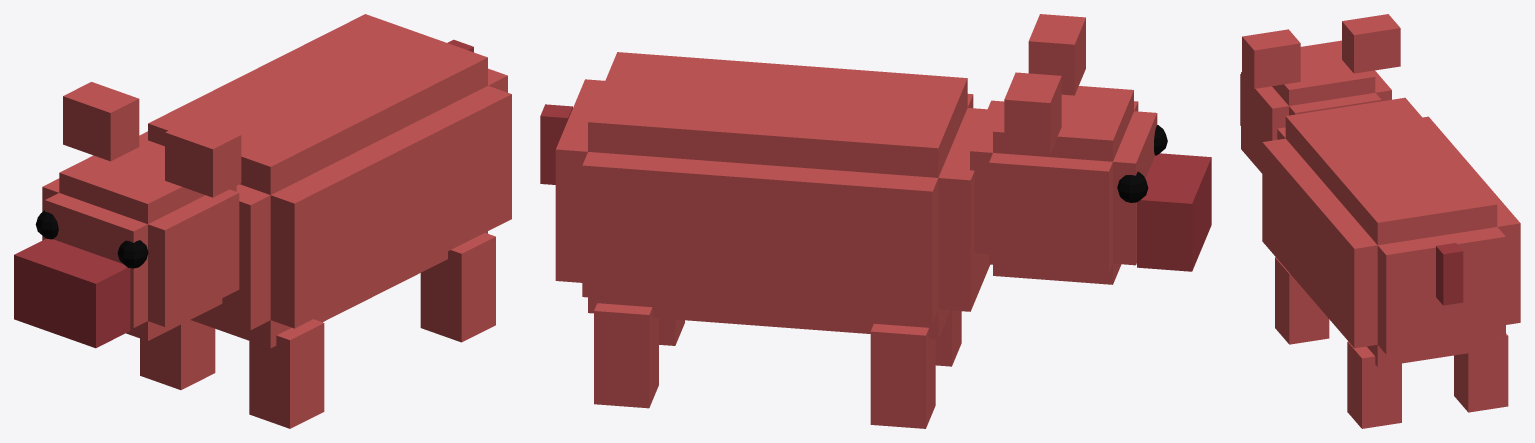
Rendered from cerdo.obj.
3 renders of one model, left to right at view 1: azimuth 30°, elevation 25°; view 2: azimuth 150°, elevation 25°; view 3: azimuth 270°, elevation 25°, orthographic. The views are drawn at different scales.
Visible parts, largest first — view 1: Cerdo; view 2: Cerdo; view 3: Cerdo.
Boxes of the visible parts, left/top/right/bottom form: Cerdo: left=14, top=14, right=511, bottom=428; Cerdo: left=540, top=14, right=1211, bottom=428; Cerdo: left=1240, top=14, right=1520, bottom=428.
Bounding box in the file's own units: 1.4 × 0.79 × 0.7923.
